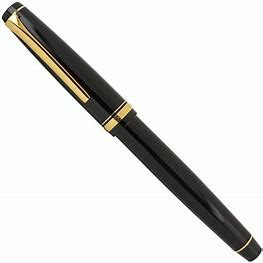pen: (1, 1, 263, 259)
